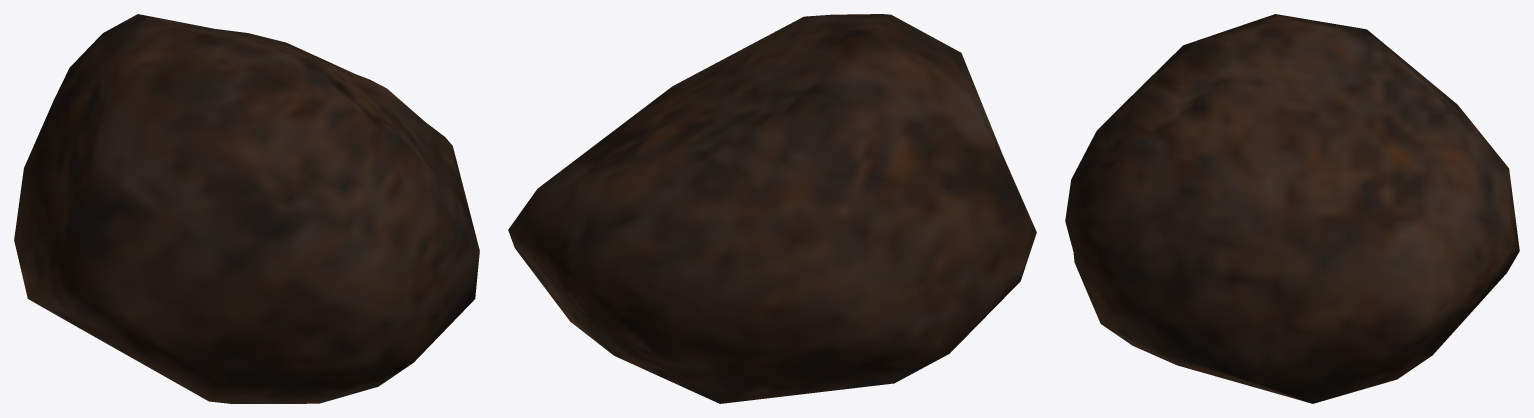
The model's file is sb_obj_nature006_Stone05c.fbx.
3 views of the same model, side by side, from view 1: azimuth 30°, elevation 25°; view 2: azimuth 150°, elevation 25°; view 3: azimuth 270°, elevation 25° (orthographic). The views are drawn at different scales.
Visible parts, largest first — view 1: sb_obj_nature006_Stone05c; view 2: sb_obj_nature006_Stone05c; view 3: sb_obj_nature006_Stone05c.
Part boxes in pixels (x1,y1,x2,y2): sb_obj_nature006_Stone05c: (14,14,479,403); sb_obj_nature006_Stone05c: (508,14,1036,403); sb_obj_nature006_Stone05c: (1065,14,1519,403).
Size of the model in its own units: 0.5292 by 0.39 by 0.5566.
